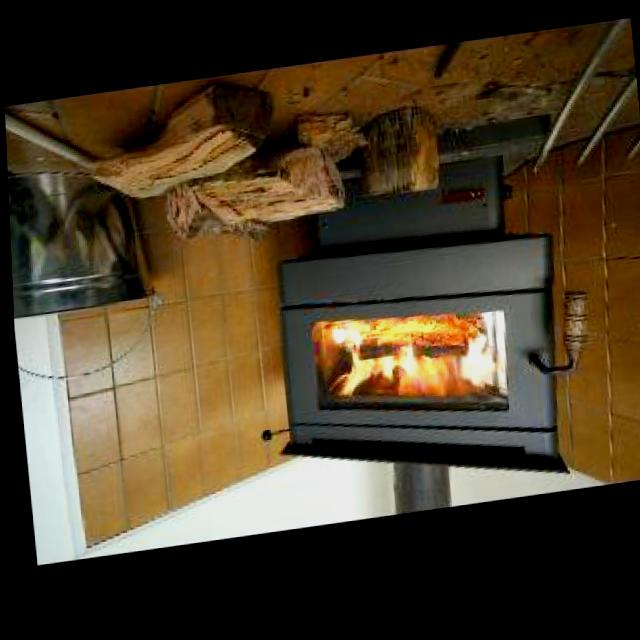helmet: (310, 316, 485, 419)
